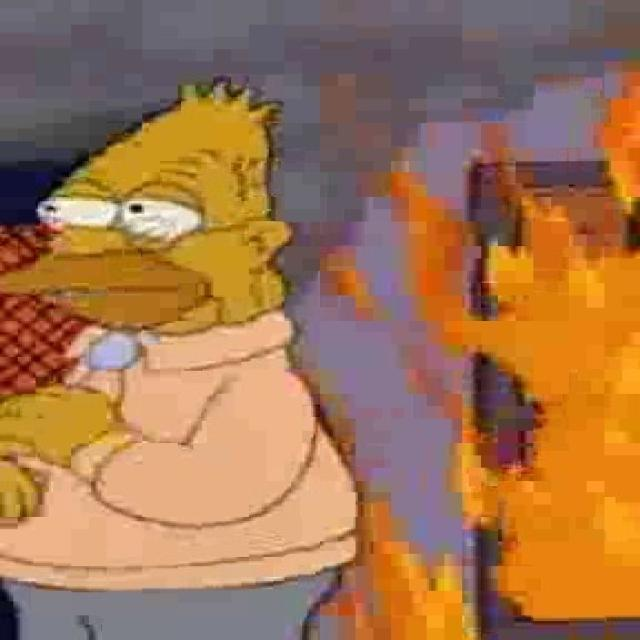Abraham Grampa Simpson: (5, 75, 296, 337)
